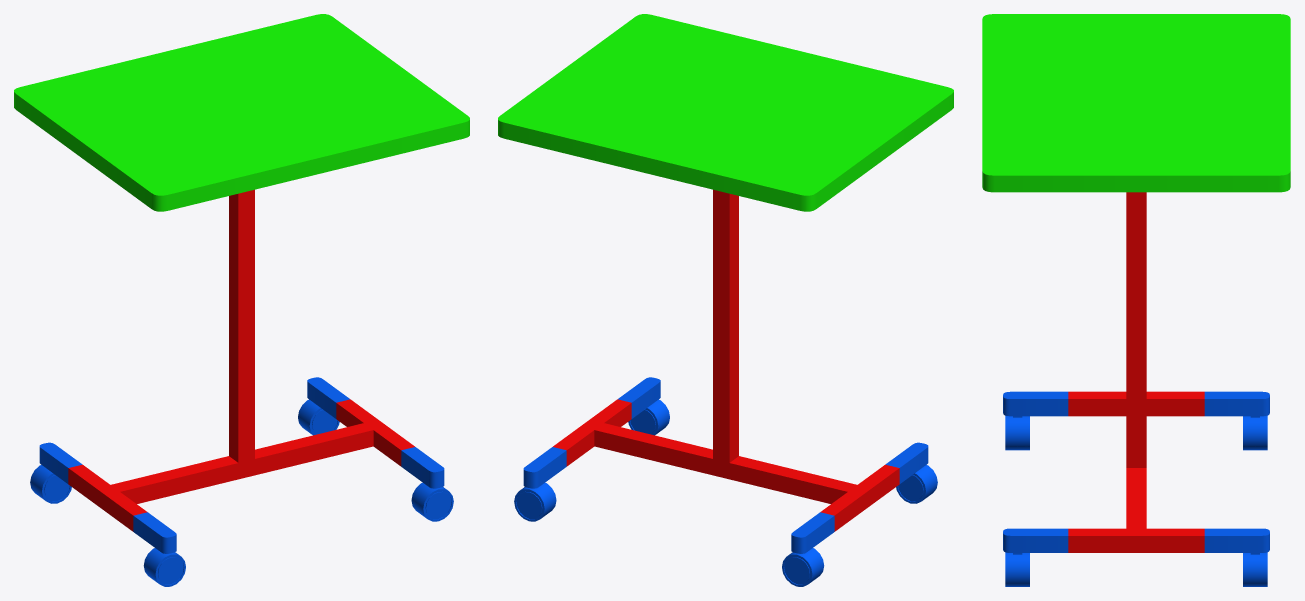
Rendered from hospital_fnt_mesita1.fbx.
3 renders of one model, left to right at view 1: azimuth 30°, elevation 25°; view 2: azimuth 150°, elevation 25°; view 3: azimuth 270°, elevation 25°, orthographic. The views are drawn at different scales.
Parts seen in each view (by area): view 1: hospital_fnt_mesita1; view 2: hospital_fnt_mesita1; view 3: hospital_fnt_mesita1.
Part boxes in pixels (x1,y1,x2,y2): hospital_fnt_mesita1: (14, 14, 469, 586); hospital_fnt_mesita1: (498, 14, 953, 586); hospital_fnt_mesita1: (982, 14, 1290, 586).
Bounding box in the file's own units: 62 × 75.5 × 50.
